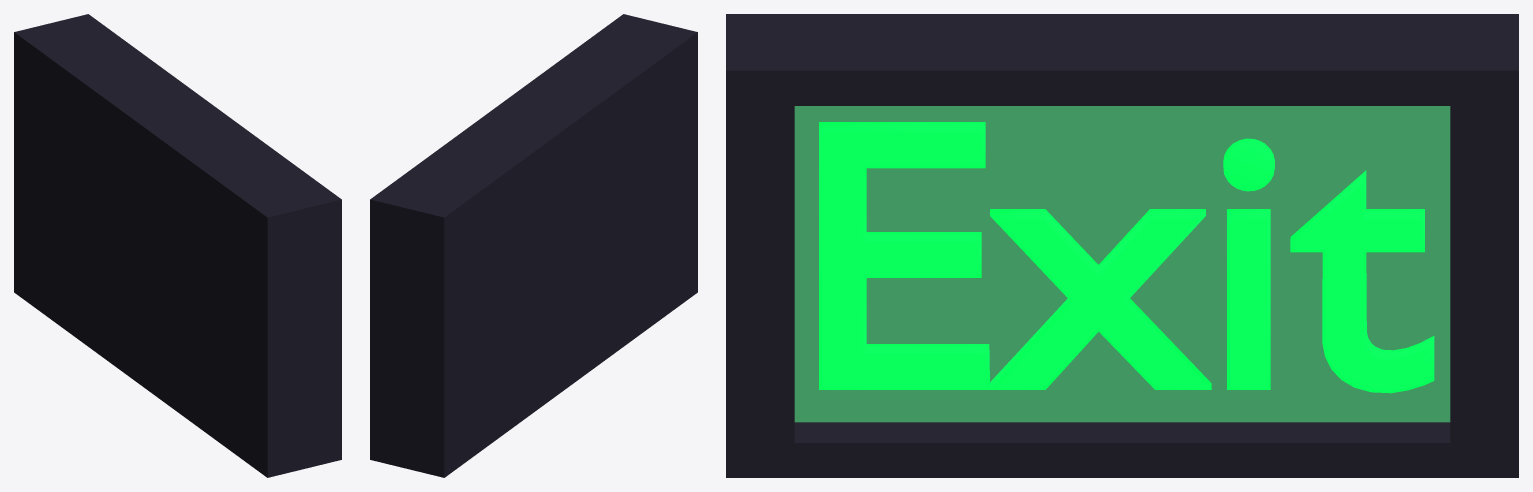
Rendered from Exit_Sign.fbx.
3 renders of one model, left to right at view 1: azimuth 30°, elevation 25°; view 2: azimuth 150°, elevation 25°; view 3: azimuth 270°, elevation 25°, orthographic. The views are drawn at different scales.
Visible parts, largest first — view 1: Exit_Sign; view 2: Exit_Sign; view 3: Exit_Sign.
Part boxes in pixels (left/top/right/bottom): Exit_Sign: left=14, top=14, right=341, bottom=477; Exit_Sign: left=370, top=14, right=697, bottom=477; Exit_Sign: left=726, top=14, right=1518, bottom=477.
Size of the model in its own units: 0.0743 by 0.2487 by 0.4387.
